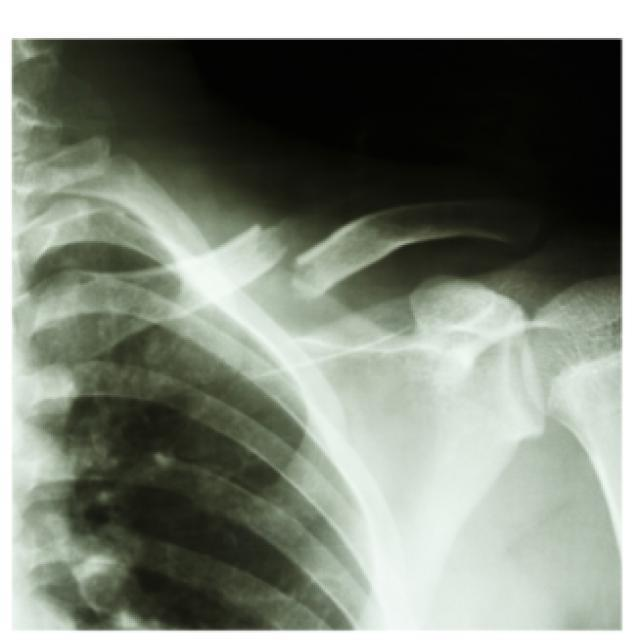bone: (220, 194, 338, 354)
